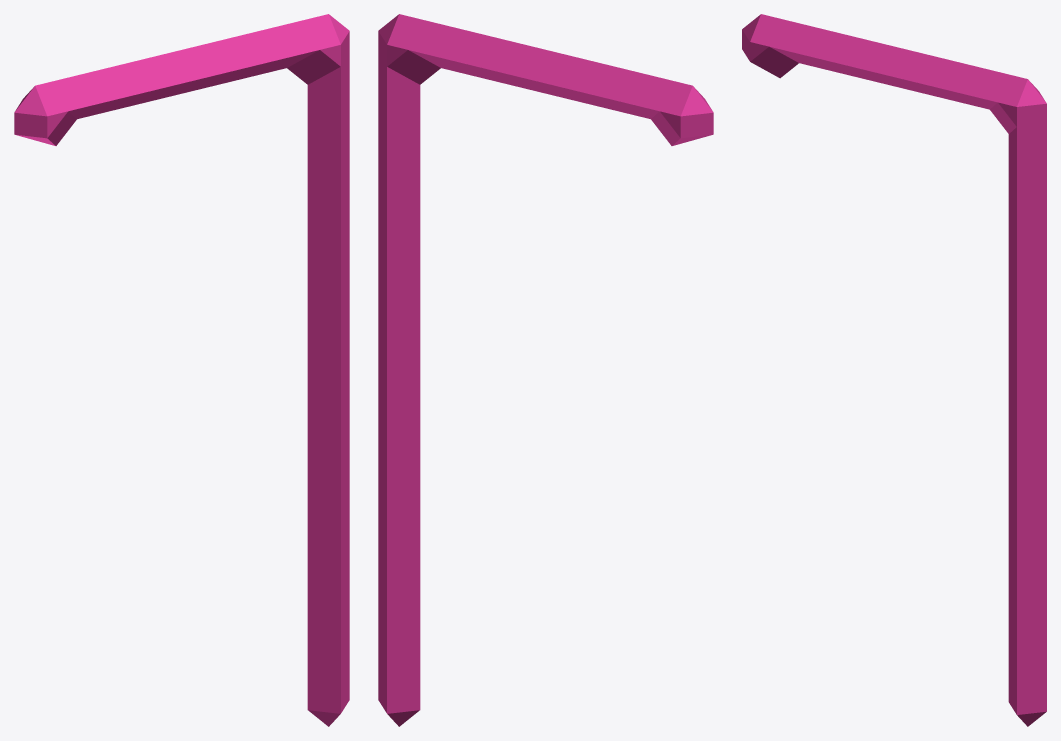
The model's file is Pipe1.fbx.
3 views of the same model, side by side, from view 1: azimuth 30°, elevation 25°; view 2: azimuth 150°, elevation 25°; view 3: azimuth 330°, elevation 25° (orthographic). The views are drawn at different scales.
Parts seen in each view (by area): view 1: polySurface9; view 2: polySurface9; view 3: polySurface9.
Part boxes in pixels (left/top/right/bottom): polySurface9: left=14, top=14, right=349, bottom=726; polySurface9: left=378, top=14, right=713, bottom=726; polySurface9: left=742, top=14, right=1046, bottom=726.
Bounding box in the file's own units: 40 × 81.23 × 5.
Materials: 1 (1 with a texture image).
